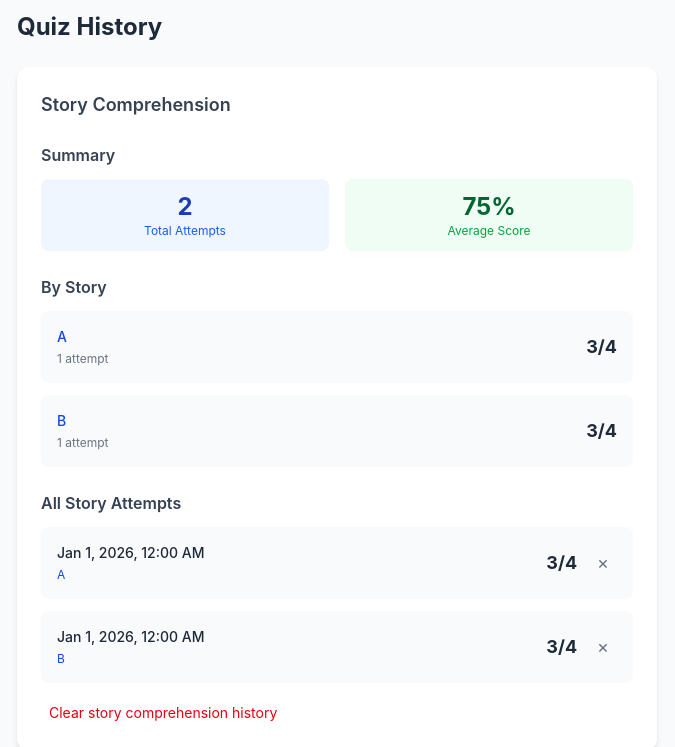
HistoryPage Story Comprehension block › clearing story history during a pending undo cancels the undo and removes everything
The width and height of the screenshot is (675, 747).
Click the button named "Delete attempt for A" at (603, 563), box [589,550,617,576]
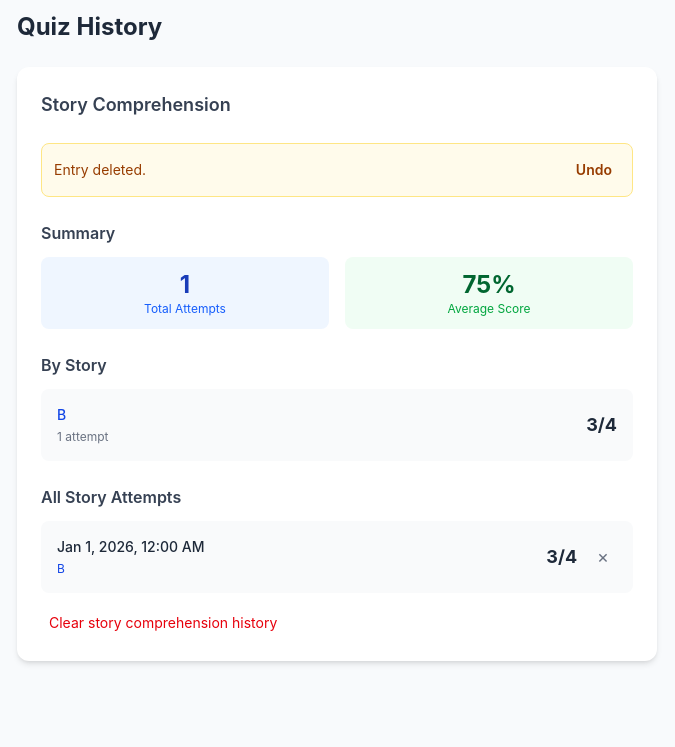
Now the message "Entry deleted. Undo" is shown, box [41,143,633,197]
Click the button "Clear story comprehension history" at (163, 623), box [41,609,285,637]
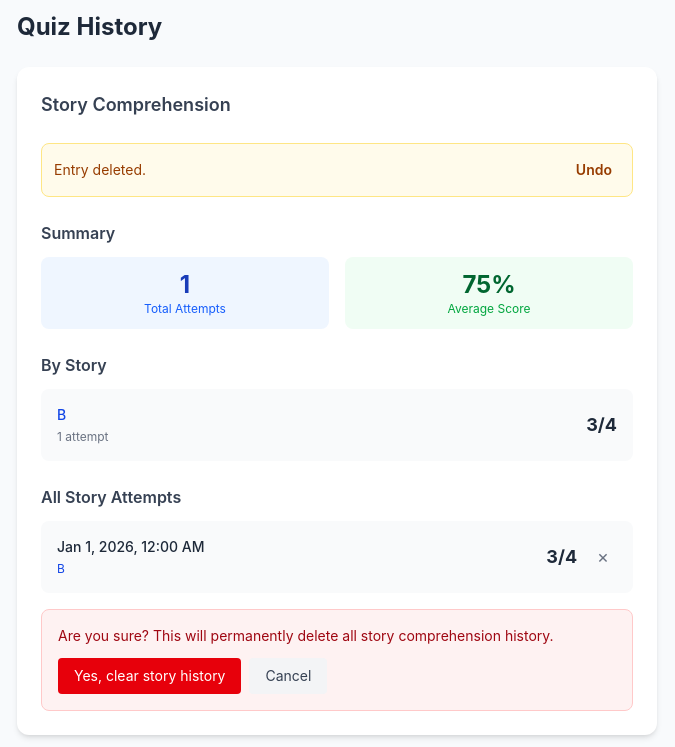
Click the button "Yes, clear story history" at (150, 676), box [58,658,242,694]
Wait 8000 ms
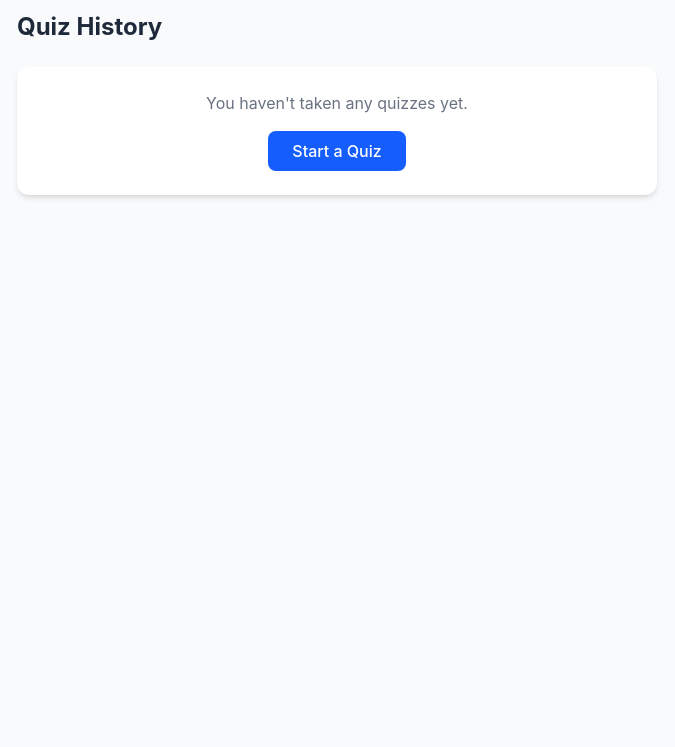
Now the message with test id "undo-banner" is gone
